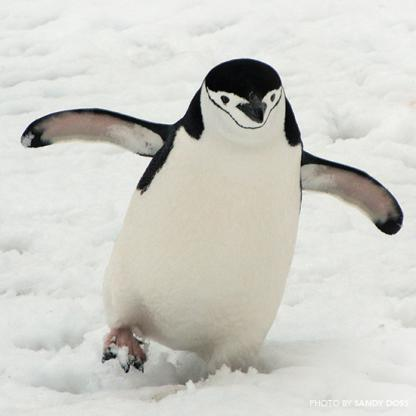Penguin: (0, 46, 407, 380)
